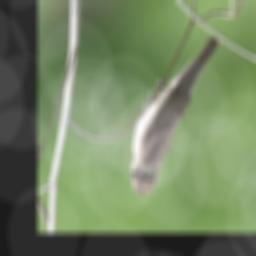Swallow: (129, 35, 222, 196)
